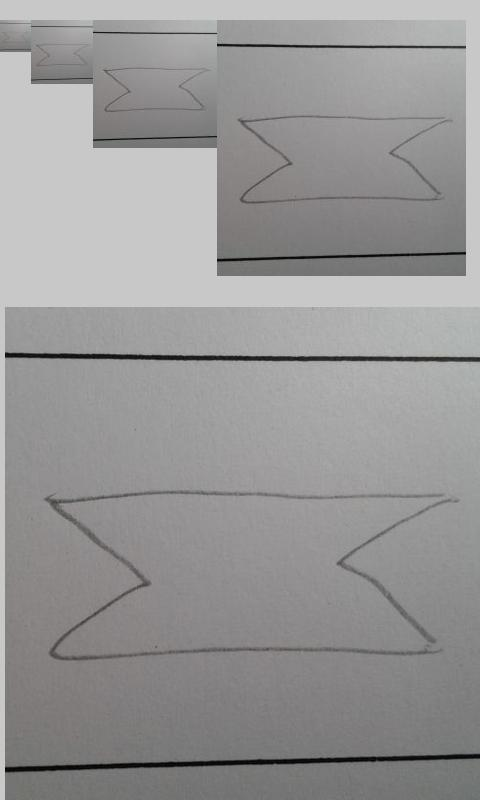edit_text: (45, 487, 450, 663), (238, 113, 447, 204), (104, 67, 207, 112), (36, 43, 90, 67), (2, 31, 29, 44)
